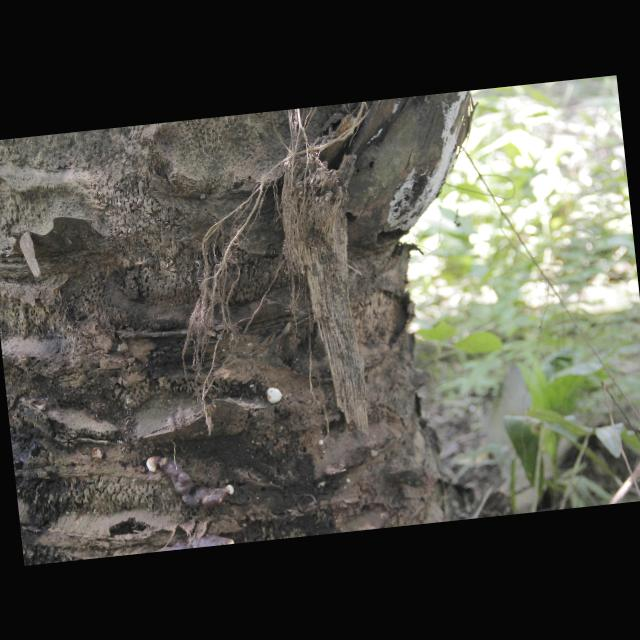ganoderma: (159, 450, 229, 513)
primordium: (266, 387, 284, 407), (146, 457, 160, 475), (227, 484, 236, 497), (319, 440, 325, 448)
